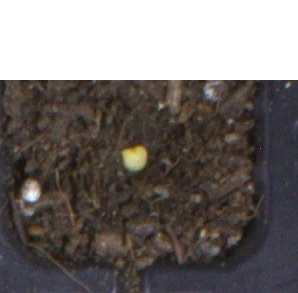chilli seed: (119, 144, 148, 171)
